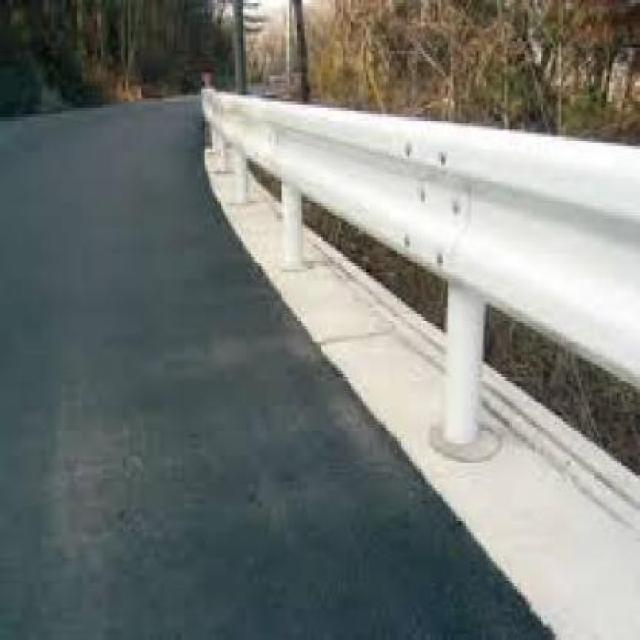Guard rail: (200, 74, 640, 518)
